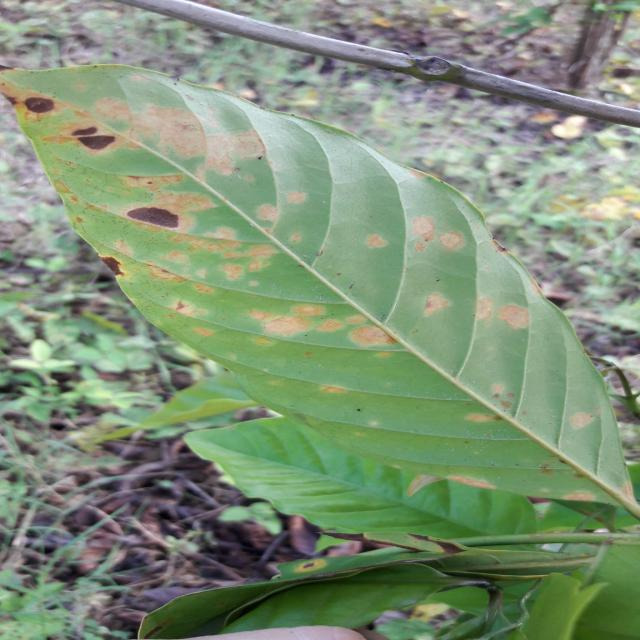Enfermedad-Roya: (0, 65, 630, 505)
